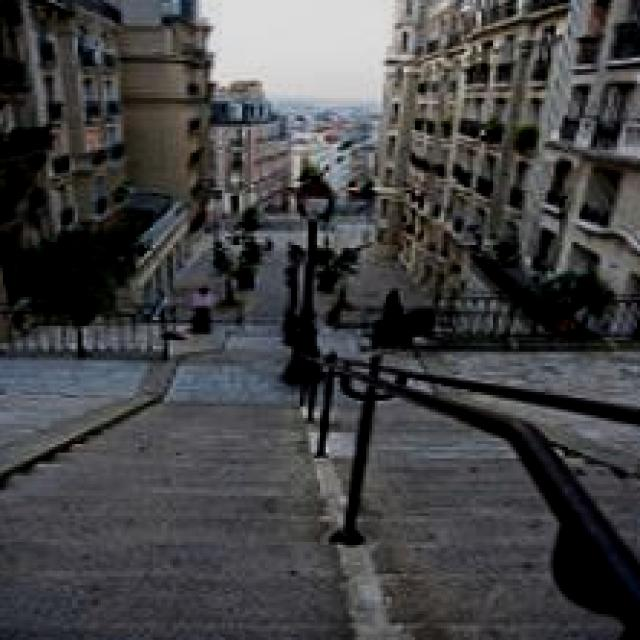downstair: (10, 456, 350, 640)
